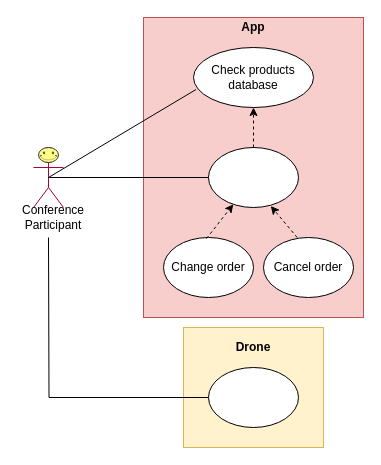
Some shapes in this 381 by 465 pixel diagram are drawn without their labels. The centre of each missing label's shape, as x and y in pixels:
"Deliver Order" goes at point 253,397.
"Make order" goes at point 253,177.
